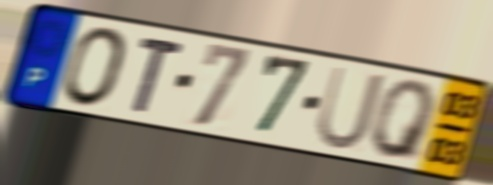7: (194, 40, 253, 133), (255, 52, 312, 140)
O: (61, 24, 131, 110)
Q: (368, 78, 438, 164)
T: (131, 33, 187, 117)
U: (312, 63, 388, 153)
